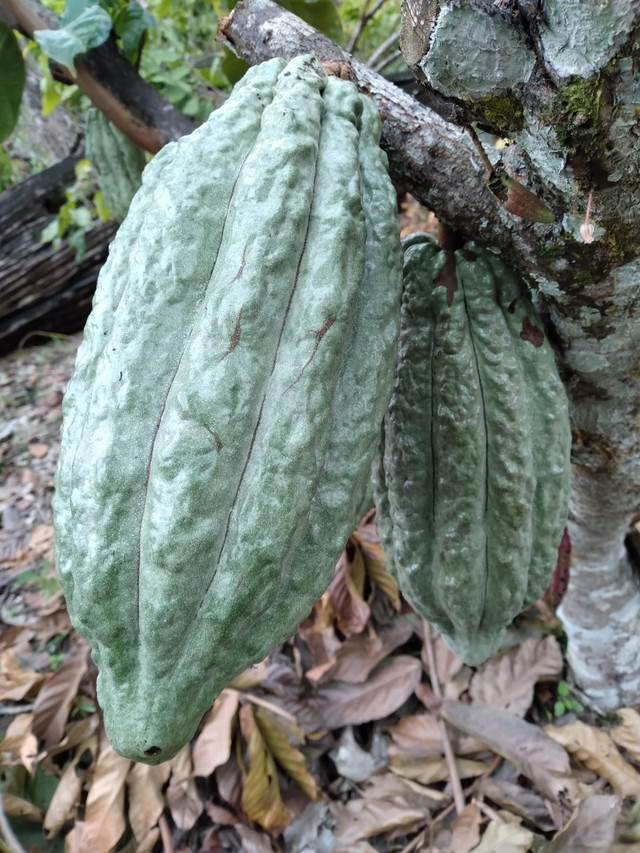Health: (49, 52, 412, 773), (369, 225, 579, 670)
